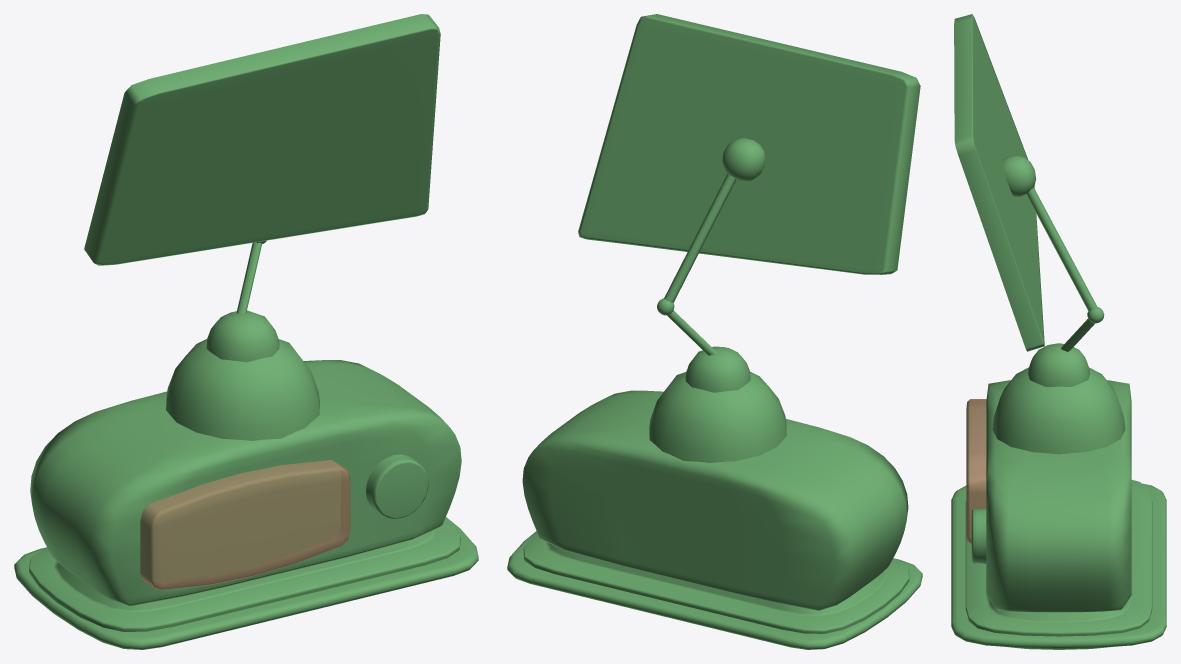
The model's file is Appliance_Fabricator_Alpha.fbx.
3 renders of one model, left to right at view 1: azimuth 30°, elevation 25°; view 2: azimuth 150°, elevation 25°; view 3: azimuth 270°, elevation 25°, orthographic. The views are drawn at different scales.
Parts seen in each view (by area): view 1: Base, Monter, Window, Button; view 2: Base, Monter; view 3: Base, Monter, Window, Button.
Boxes of the visible parts, left/top/right/bottom form: Base: left=14, top=240, right=478, bottom=649; Monter: left=84, top=14, right=440, bottom=265; Window: left=140, top=460, right=350, bottom=590; Button: left=366, top=454, right=428, bottom=519; Base: left=507, top=138, right=922, bottom=649; Monter: left=578, top=14, right=920, bottom=274; Base: left=951, top=155, right=1166, bottom=649; Monter: left=954, top=14, right=1044, bottom=351; Window: left=966, top=399, right=986, bottom=544; Button: left=971, top=508, right=986, bottom=563.
Size of the model in its own units: 167 by 233 by 92.3.
